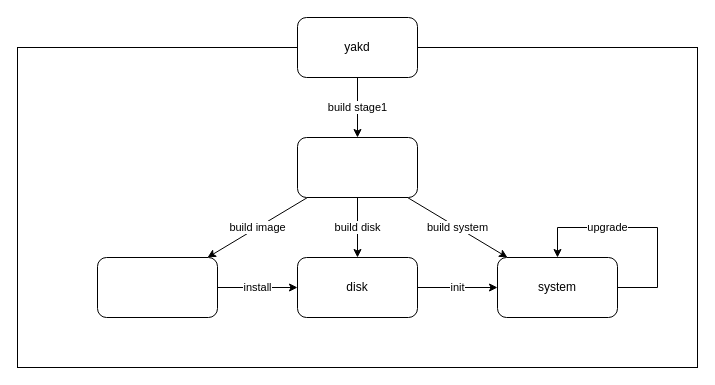
This 715x385 diagram has some shape labels left out. Each missing label, with the centre of its shape:
"image" belongs at [157,287].
"stage1" belongs at [357,167].
